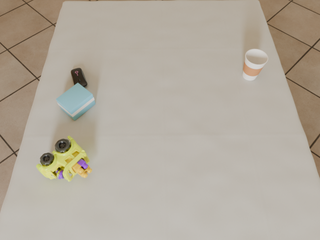box: (56, 83, 95, 120)
cup: (243, 49, 268, 80)
mouse: (71, 68, 87, 87)
toy_car: (36, 136, 92, 181)
